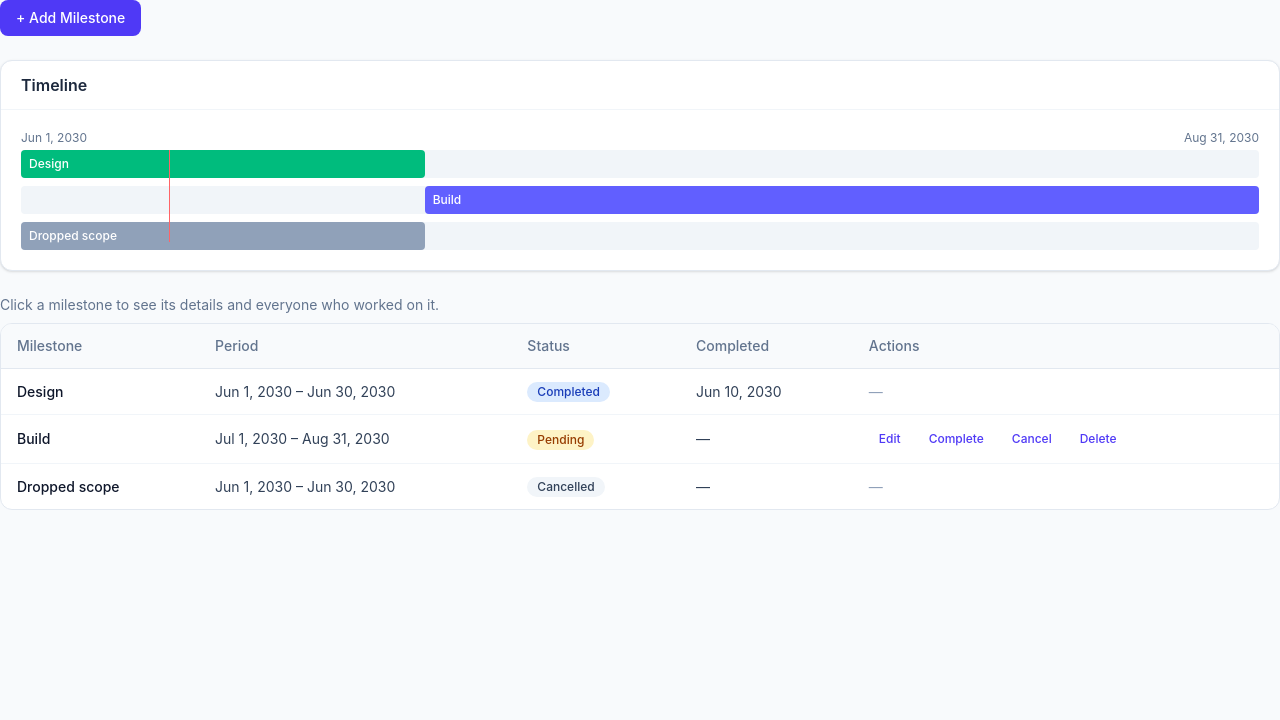
Test: MilestonesTab › shows validation errors from the API when a milestone is outside the project
This screenshot has width=1280, height=720.
Expected: the button "Build" is shown, [17,429,50,449]
Step 1. Click the button "+ Add Milestone" → {"x": 71, "y": 18}, box [0,0,141,36]
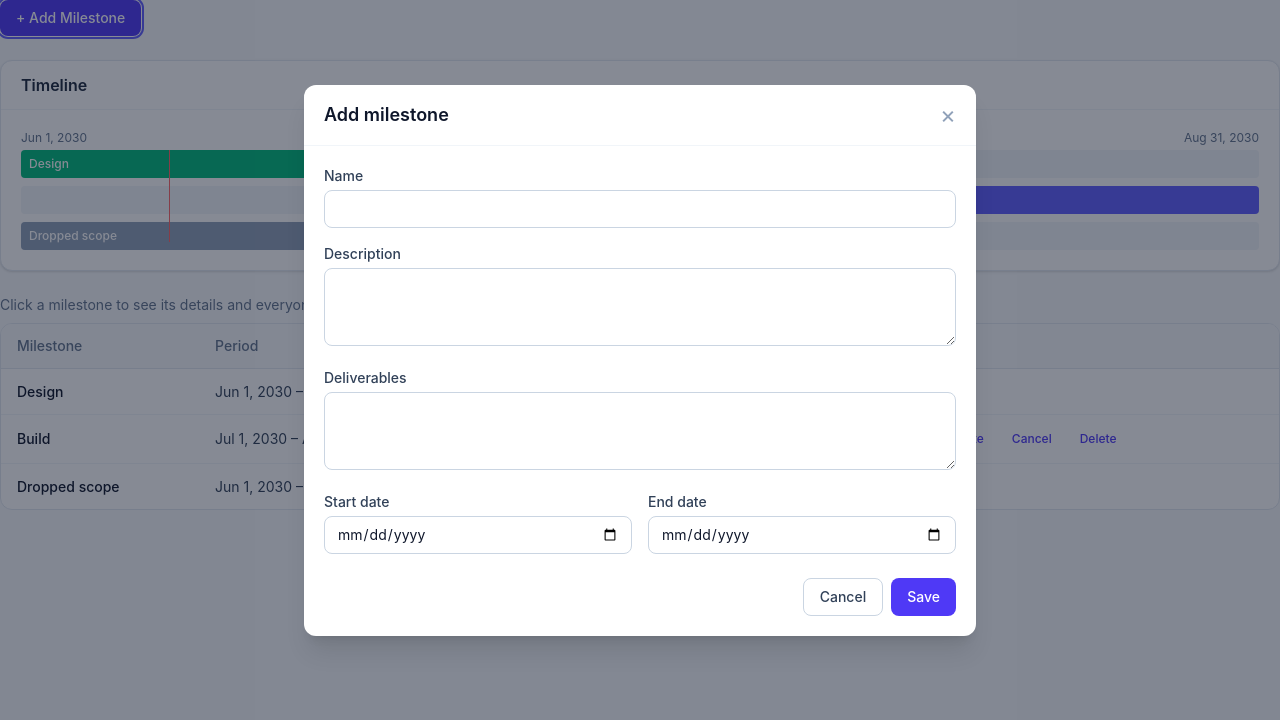
Step 2. Type "Too late" into the field labelled "Name" → {"x": 640, "y": 208}, box [324,190,956,228]
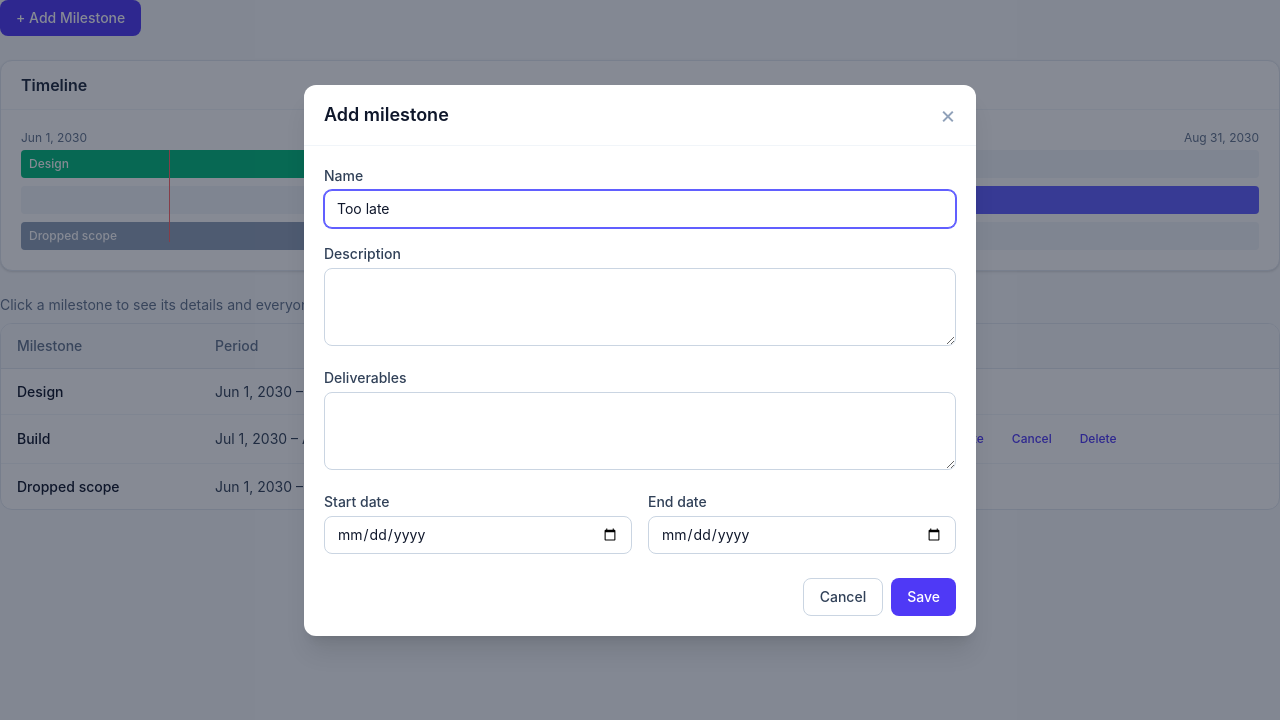
Step 3. Type "2031-01-01" into the date field labelled "Start date" → {"x": 478, "y": 534}, box [324,516,632,554]
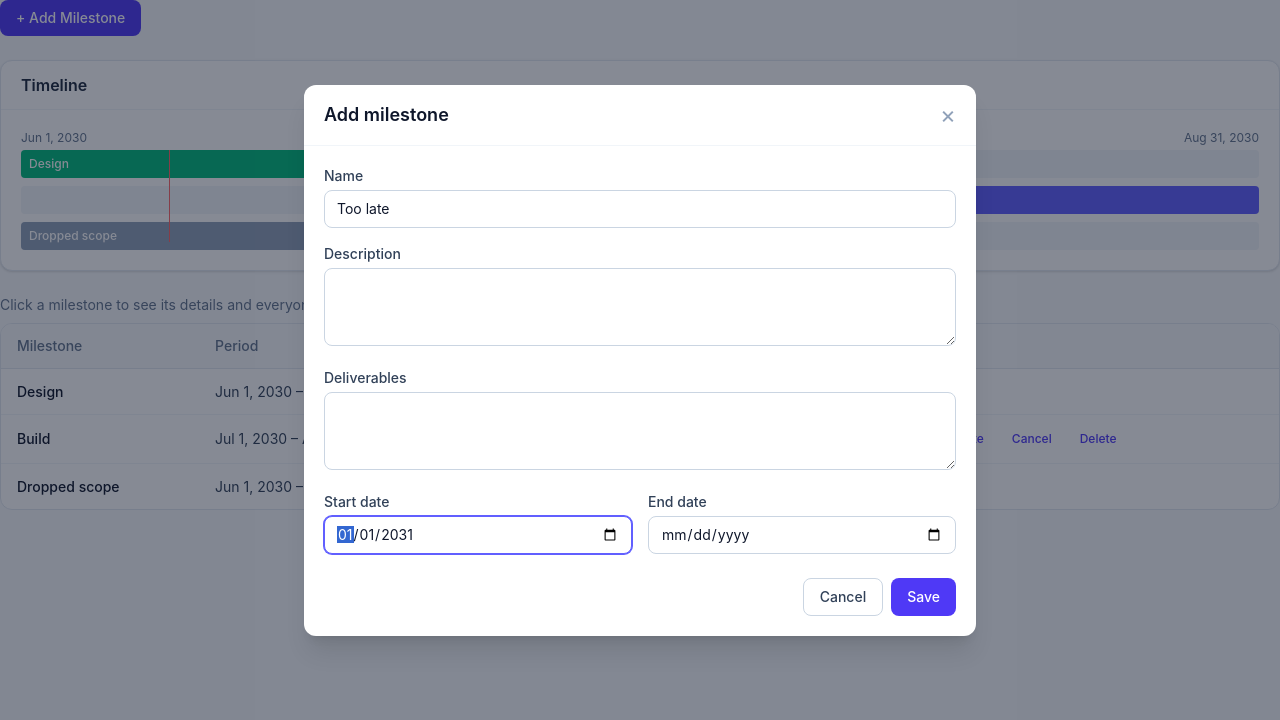
Step 4. Type "2031-02-01" into the date field labelled "End date" → {"x": 802, "y": 534}, box [648,516,956,554]
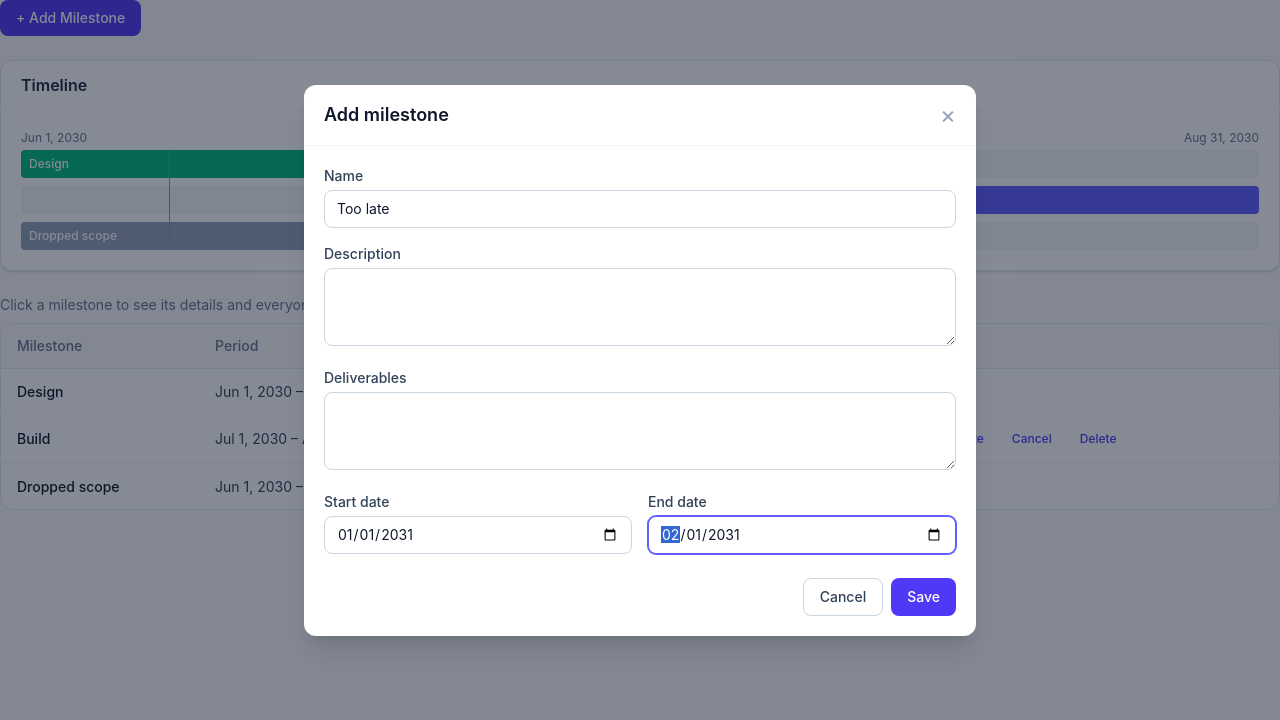
Step 5. Click the button "Save" → {"x": 924, "y": 596}, box [891,578,956,616]
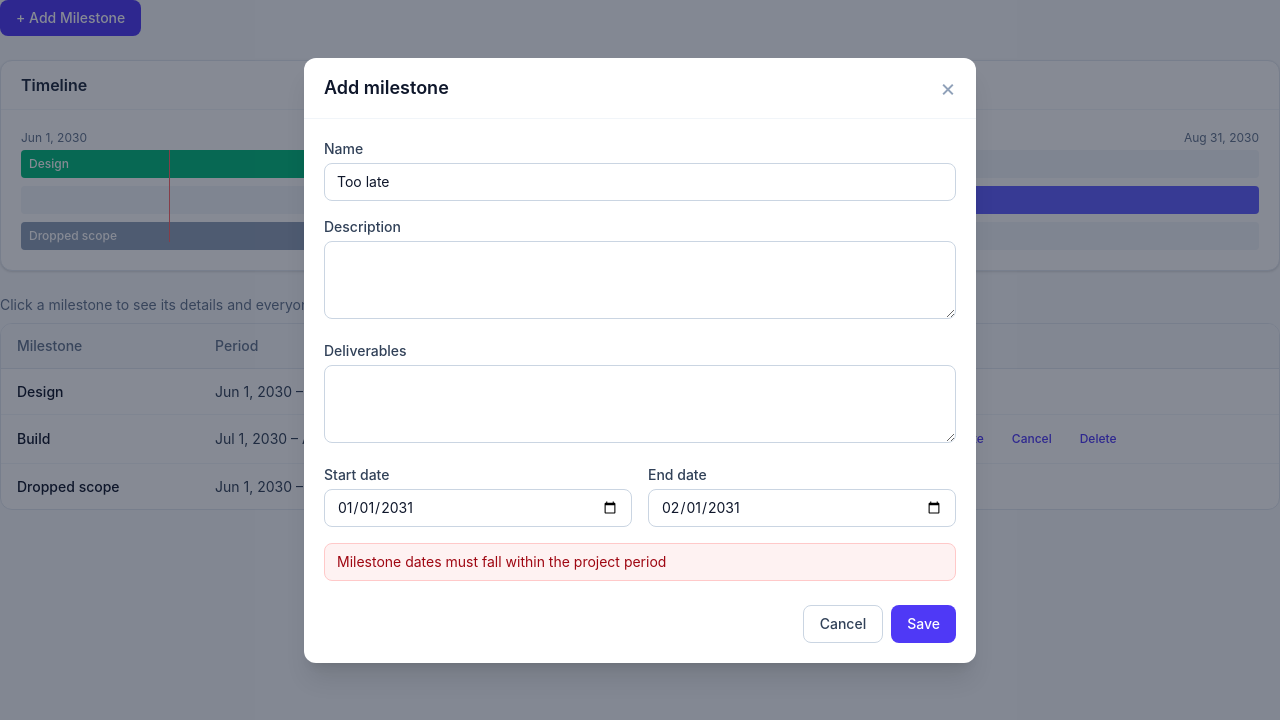
Expected: the message reads "Milestone dates must fall within the project period", [337,552,666,570]
